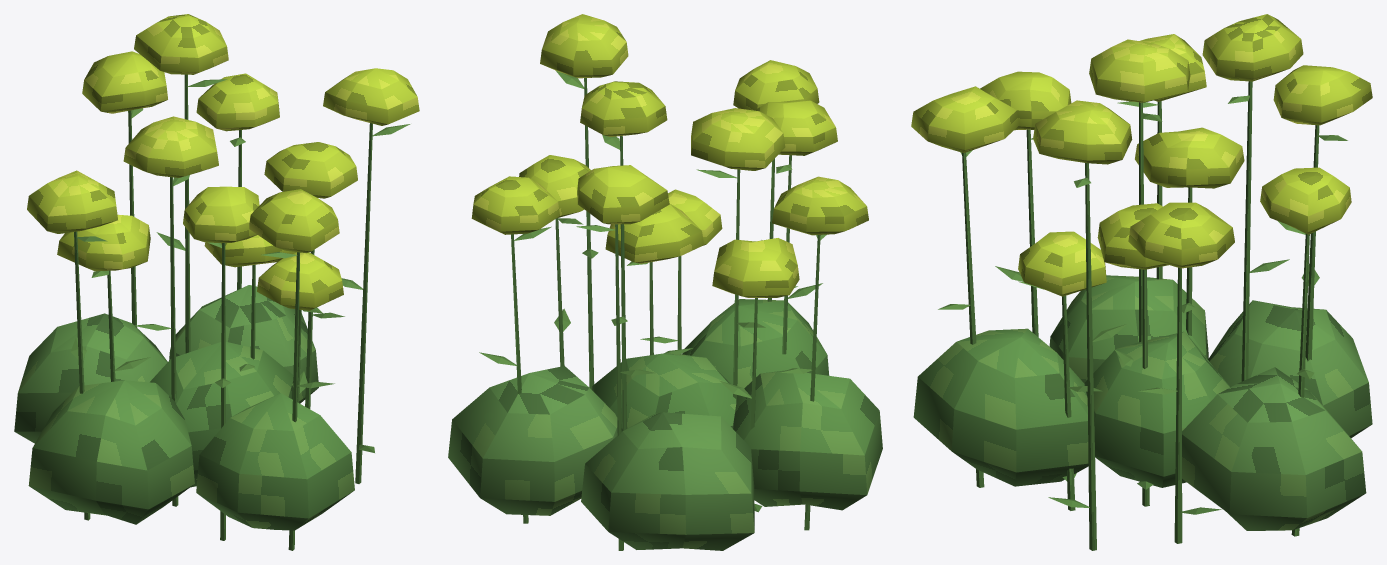
Rendered from f_flower_spurge.glb.
3 renders of one model, left to right at view 1: azimuth 30°, elevation 25°; view 2: azimuth 150°, elevation 25°; view 3: azimuth 270°, elevation 25°, orthographic. The views are drawn at different scales.
Parts seen in each view (by area): view 1: f_flower_spurge_mesh; view 2: f_flower_spurge_mesh; view 3: f_flower_spurge_mesh.
Part boxes in pixels (x1,y1,x2,y2): f_flower_spurge_mesh: (14, 14, 419, 550); f_flower_spurge_mesh: (448, 14, 882, 550); f_flower_spurge_mesh: (911, 14, 1372, 550).
Bounding box in the file's own units: 0.4772 × 0.5706 × 0.503.
1 material, 1 textured.
